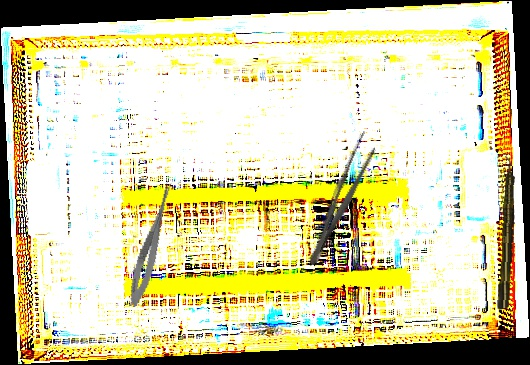Dressing Forceps: (301, 128, 382, 272)
Handpiece: (495, 155, 519, 311)
Micro Scissor: (124, 179, 177, 310)
